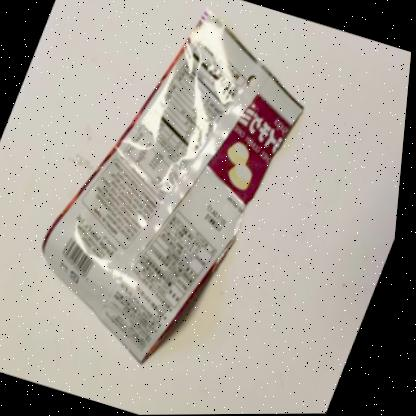Plastic: (46, 7, 305, 363)
